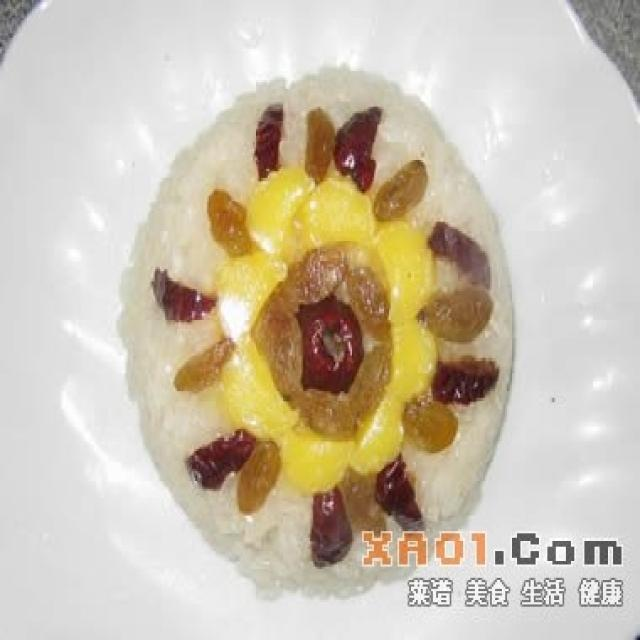米饭主食: (2, 4, 633, 634)
